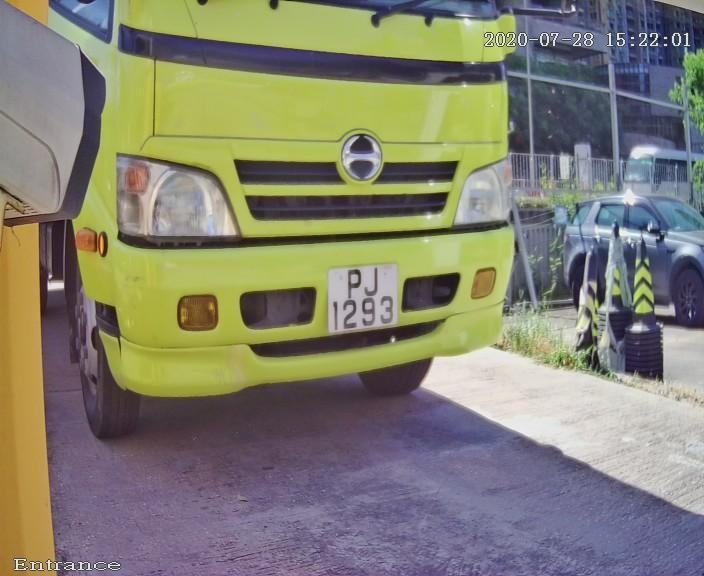vehicle_m: (44, 1, 544, 410)
